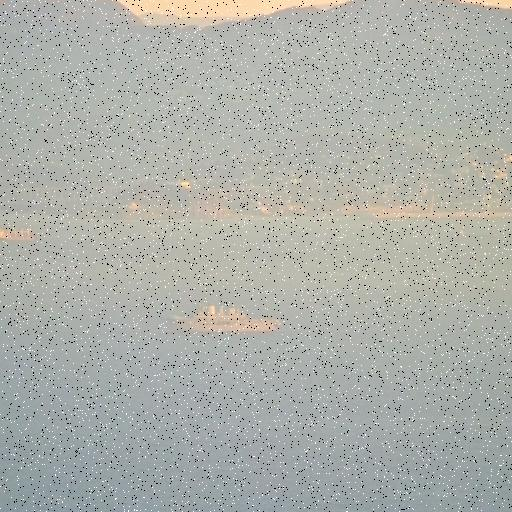Portanaves: (163, 287, 293, 347)
